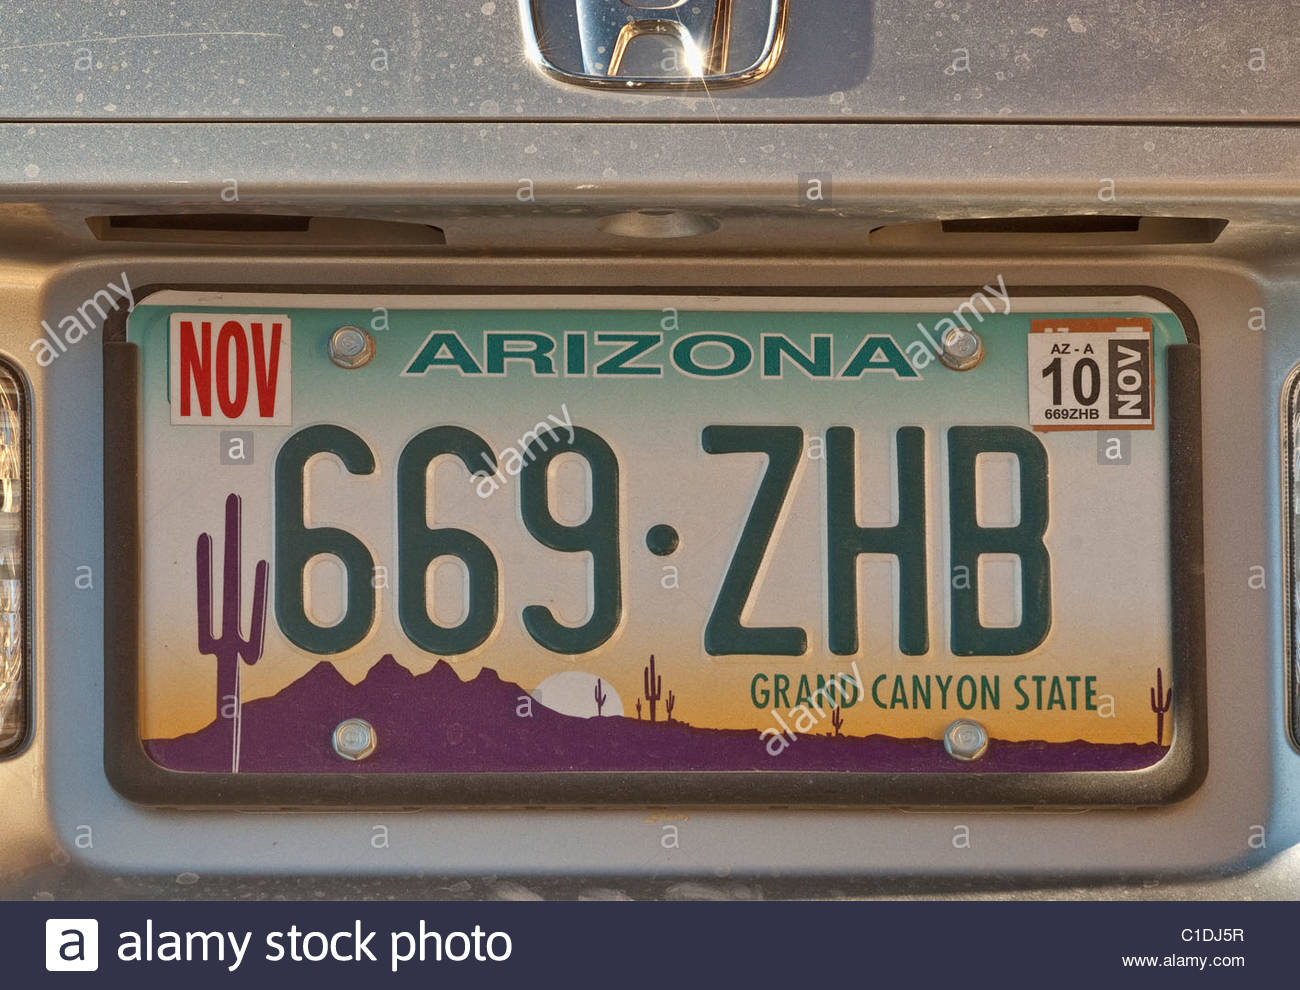license plate: (94, 273, 1227, 819)
